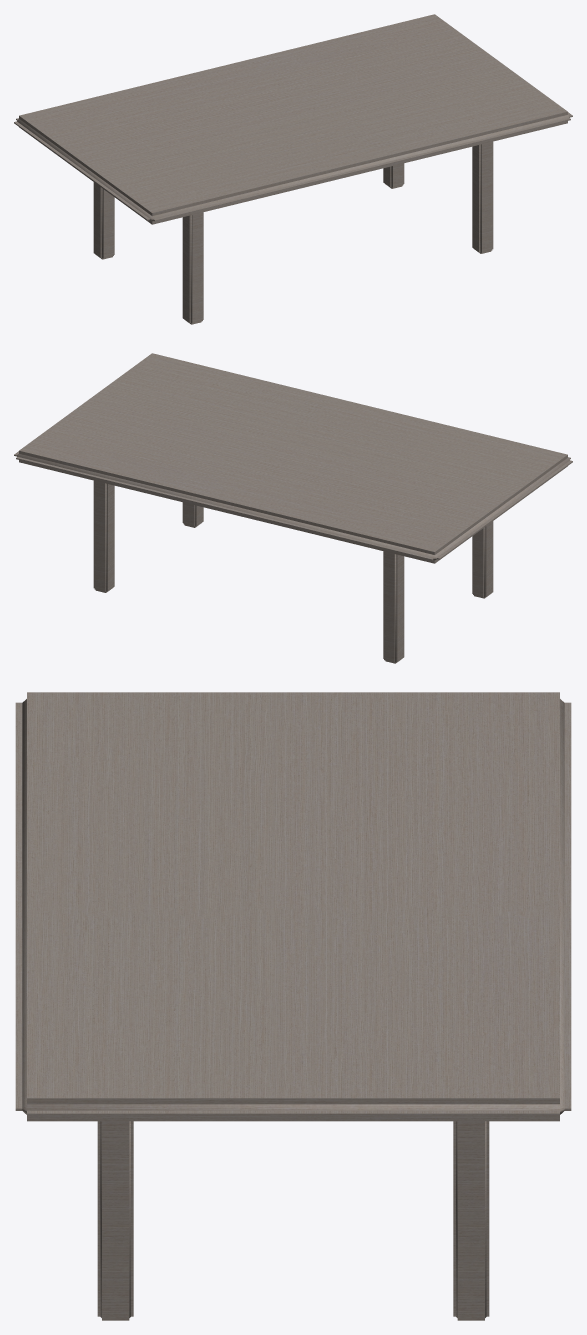
Rendered from modern.coffee_table.gltf.
3 renders of one model, top to bottom at view 1: azimuth 30°, elevation 25°; view 2: azimuth 150°, elevation 25°; view 3: azimuth 270°, elevation 25°, orthographic. The views are drawn at different scales.
Visible parts, largest first — view 1: modern.coffee_table.rounded-top; view 2: modern.coffee_table.rounded-top; view 3: modern.coffee_table.rounded-top.
Part boxes in pixels (bbox=[...]): modern.coffee_table.rounded-top: bbox=[14, 14, 572, 324]; modern.coffee_table.rounded-top: bbox=[14, 353, 572, 663]; modern.coffee_table.rounded-top: bbox=[15, 692, 571, 1320].
Size of the model in its own units: 1.15 by 0.36 by 0.65.
Materials: 1 (1 with a texture image).
